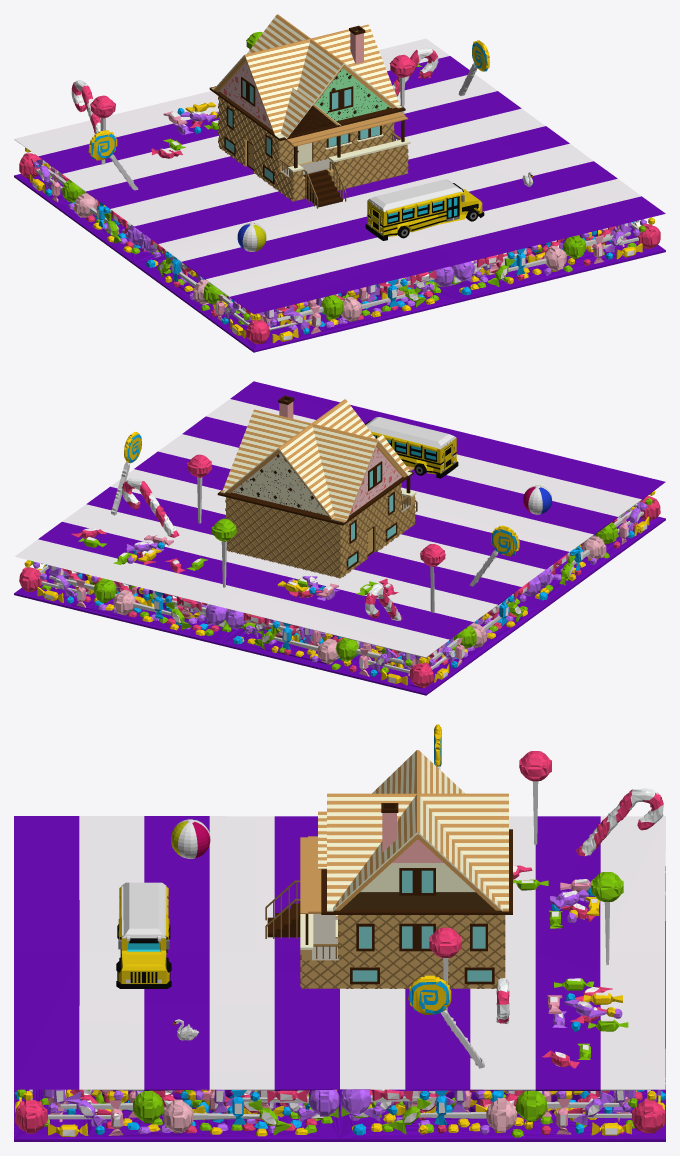
3 views of the same model, one above another, from view 1: azimuth 30°, elevation 25°; view 2: azimuth 150°, elevation 25°; view 3: azimuth 270°, elevation 25° (orthographic). The views are drawn at different scales.
Visible parts, largest first — view 1: TERRAIN_CANDY, Cube.1102, VEHICLES_SCHOOL_BUS, OBJRANDOM_BEACHBALL; view 2: TERRAIN_CANDY, Cube.1102, VEHICLES_SCHOOL_BUS, OBJRANDOM_BEACHBALL; view 3: TERRAIN_CANDY, Cube.1102, VEHICLES_SCHOOL_BUS, OBJRANDOM_BEACHBALL.
Part boxes in pixels (x1,y1,x2,y2): TERRAIN_CANDY: (14, 31, 665, 352); Cube.1102: (209, 14, 410, 208); VEHICLES_SCHOOL_BUS: (365, 179, 484, 240); OBJRANDOM_BEACHBALL: (237, 222, 266, 251); TERRAIN_CANDY: (14, 381, 665, 695); Cube.1102: (217, 395, 417, 578); VEHICLES_SCHOOL_BUS: (365, 417, 458, 478); OBJRANDOM_BEACHBALL: (523, 485, 552, 514); TERRAIN_CANDY: (14, 724, 665, 1141); Cube.1102: (265, 750, 512, 988); VEHICLES_SCHOOL_BUS: (116, 882, 171, 988); OBJRANDOM_BEACHBALL: (171, 819, 210, 858).
Bounding box in the file's own units: 4059 × 1588 × 4000.
28 materials, 3 textured.
